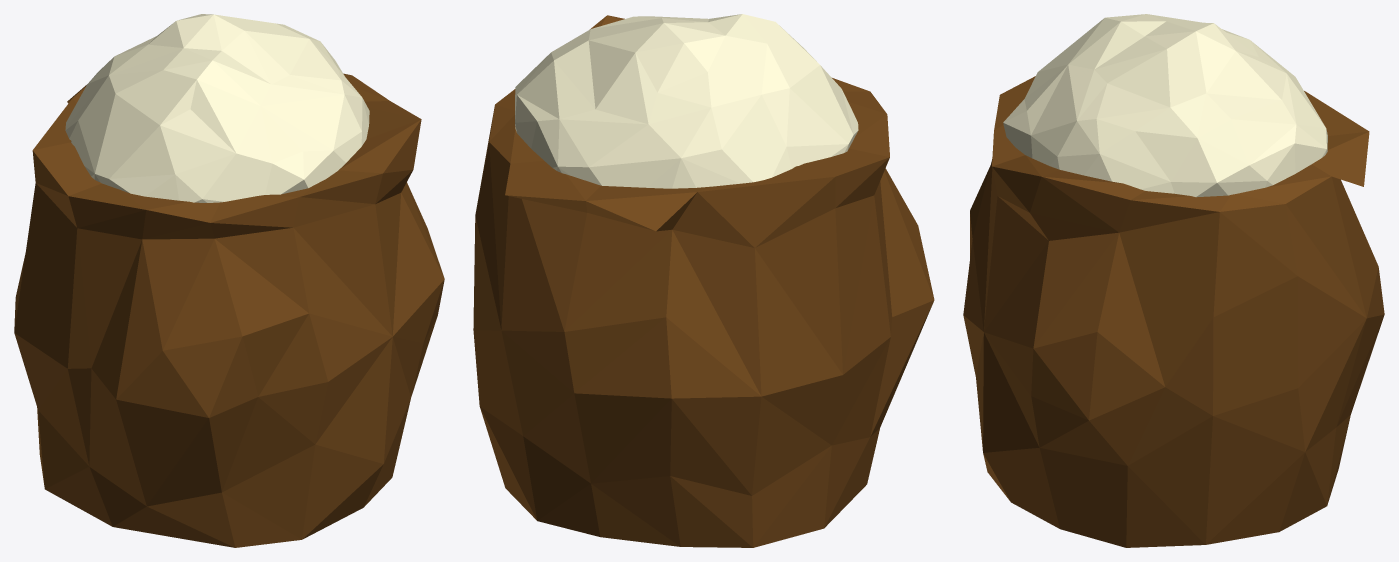
Rendered from flour_white.fbx.
The picture shows the model from 3 angles, left to right: view 1: azimuth 30°, elevation 25°; view 2: azimuth 150°, elevation 25°; view 3: azimuth 270°, elevation 25°; orthographic projection. The views are drawn at different scales.
Visible parts, largest first — view 1: Cylinder.010, Sphere.011; view 2: Cylinder.010, Sphere.011; view 3: Cylinder.010, Sphere.011.
Part boxes in pixels (bbox=[...]): Cylinder.010: bbox=[14, 73, 444, 547]; Sphere.011: bbox=[65, 14, 369, 202]; Cylinder.010: bbox=[473, 15, 934, 547]; Sphere.011: bbox=[515, 14, 858, 188]; Cylinder.010: bbox=[963, 76, 1384, 547]; Sphere.011: bbox=[1003, 14, 1327, 197].
Bounding box in the file's own units: 238 × 285 × 242.
